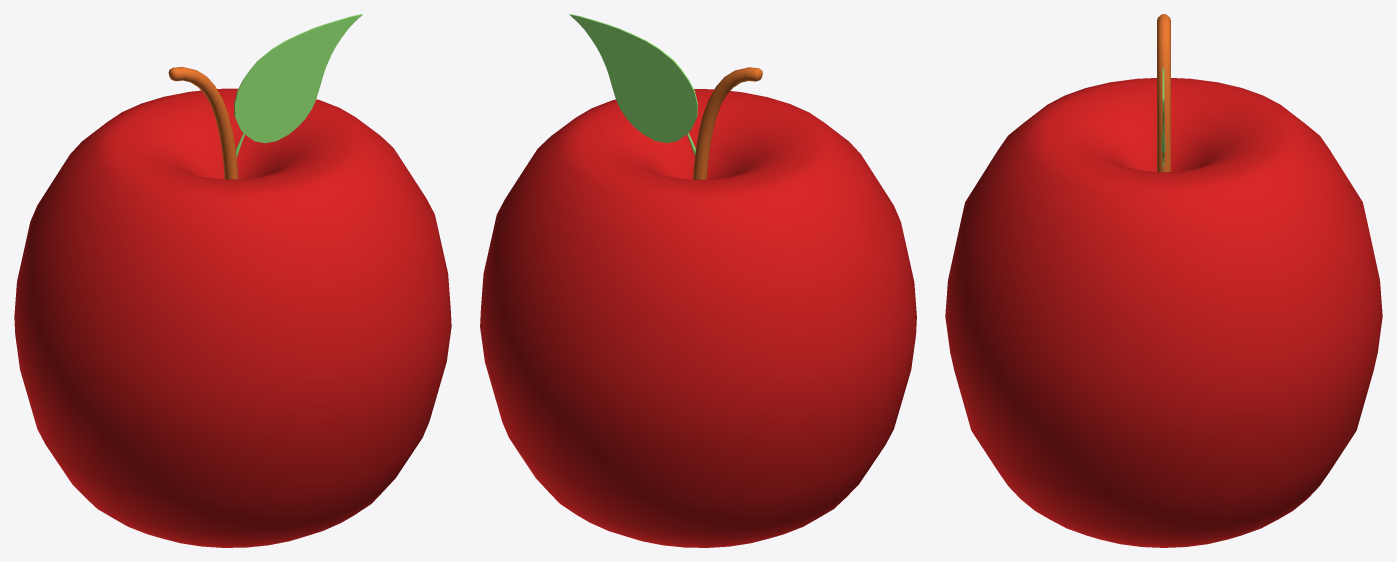
File: Apple.fbx
The picture shows the model from 3 angles, left to right: view 1: azimuth 30°, elevation 25°; view 2: azimuth 150°, elevation 25°; view 3: azimuth 270°, elevation 25°; orthographic projection.
Parts seen in each view (by area): view 1: Цилиндр, Цилиндр.001, BézierCurve; view 2: Цилиндр, Цилиндр.001, BézierCurve; view 3: Цилиндр, BézierCurve.
Part boxes in pixels (bbox=[...]): Цилиндр: bbox=[14, 88, 451, 547]; Цилиндр.001: bbox=[234, 14, 362, 157]; BézierCurve: bbox=[168, 67, 238, 179]; Цилиндр: bbox=[480, 89, 916, 547]; Цилиндр.001: bbox=[569, 14, 697, 156]; BézierCurve: bbox=[693, 67, 762, 179]; Цилиндр: bbox=[945, 78, 1382, 547]; BézierCurve: bbox=[1157, 14, 1170, 172].
Bounding box in the file's own units: 27.71 × 31.88 × 26.95.
